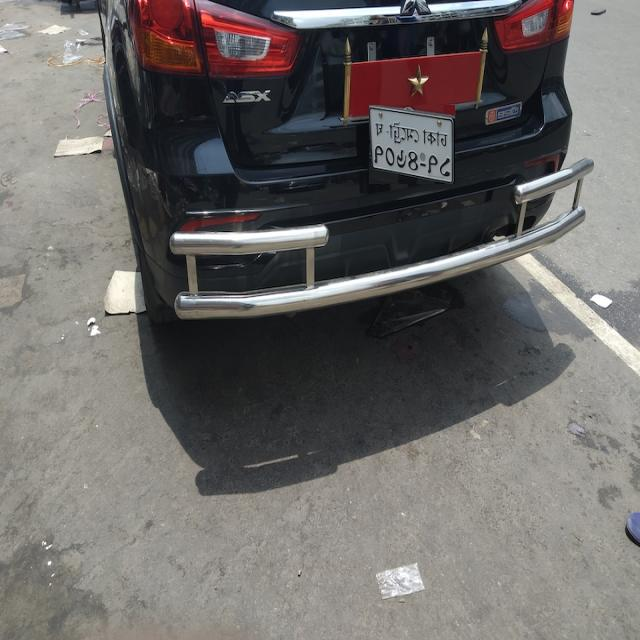numberplate: (369, 105, 455, 184)
